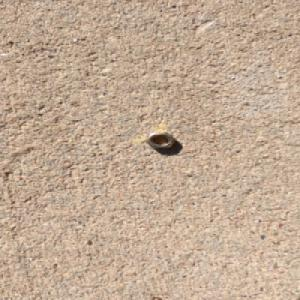Nut: (144, 131, 176, 149)
